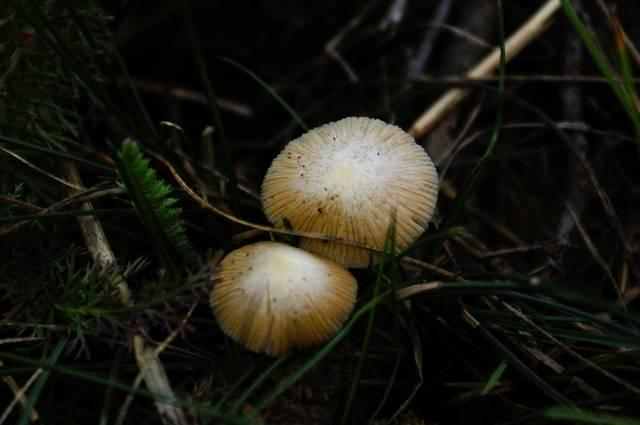Edible Mushroom: (259, 114, 440, 269), (207, 239, 358, 356)
